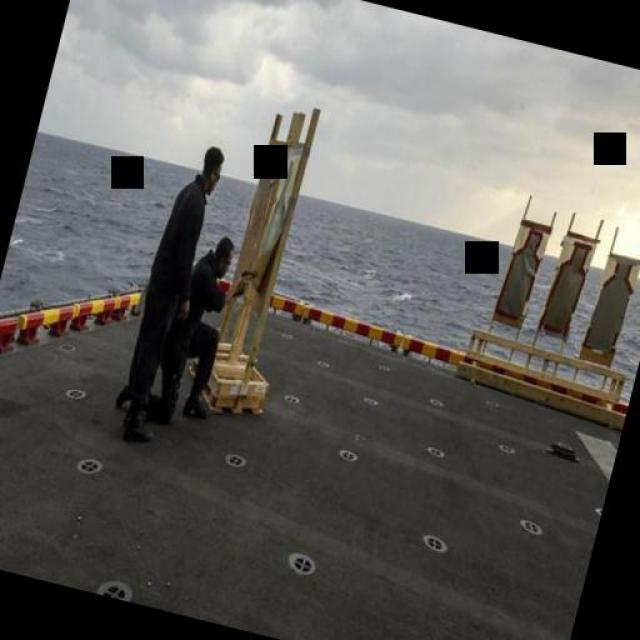gun: (231, 259, 261, 299)
